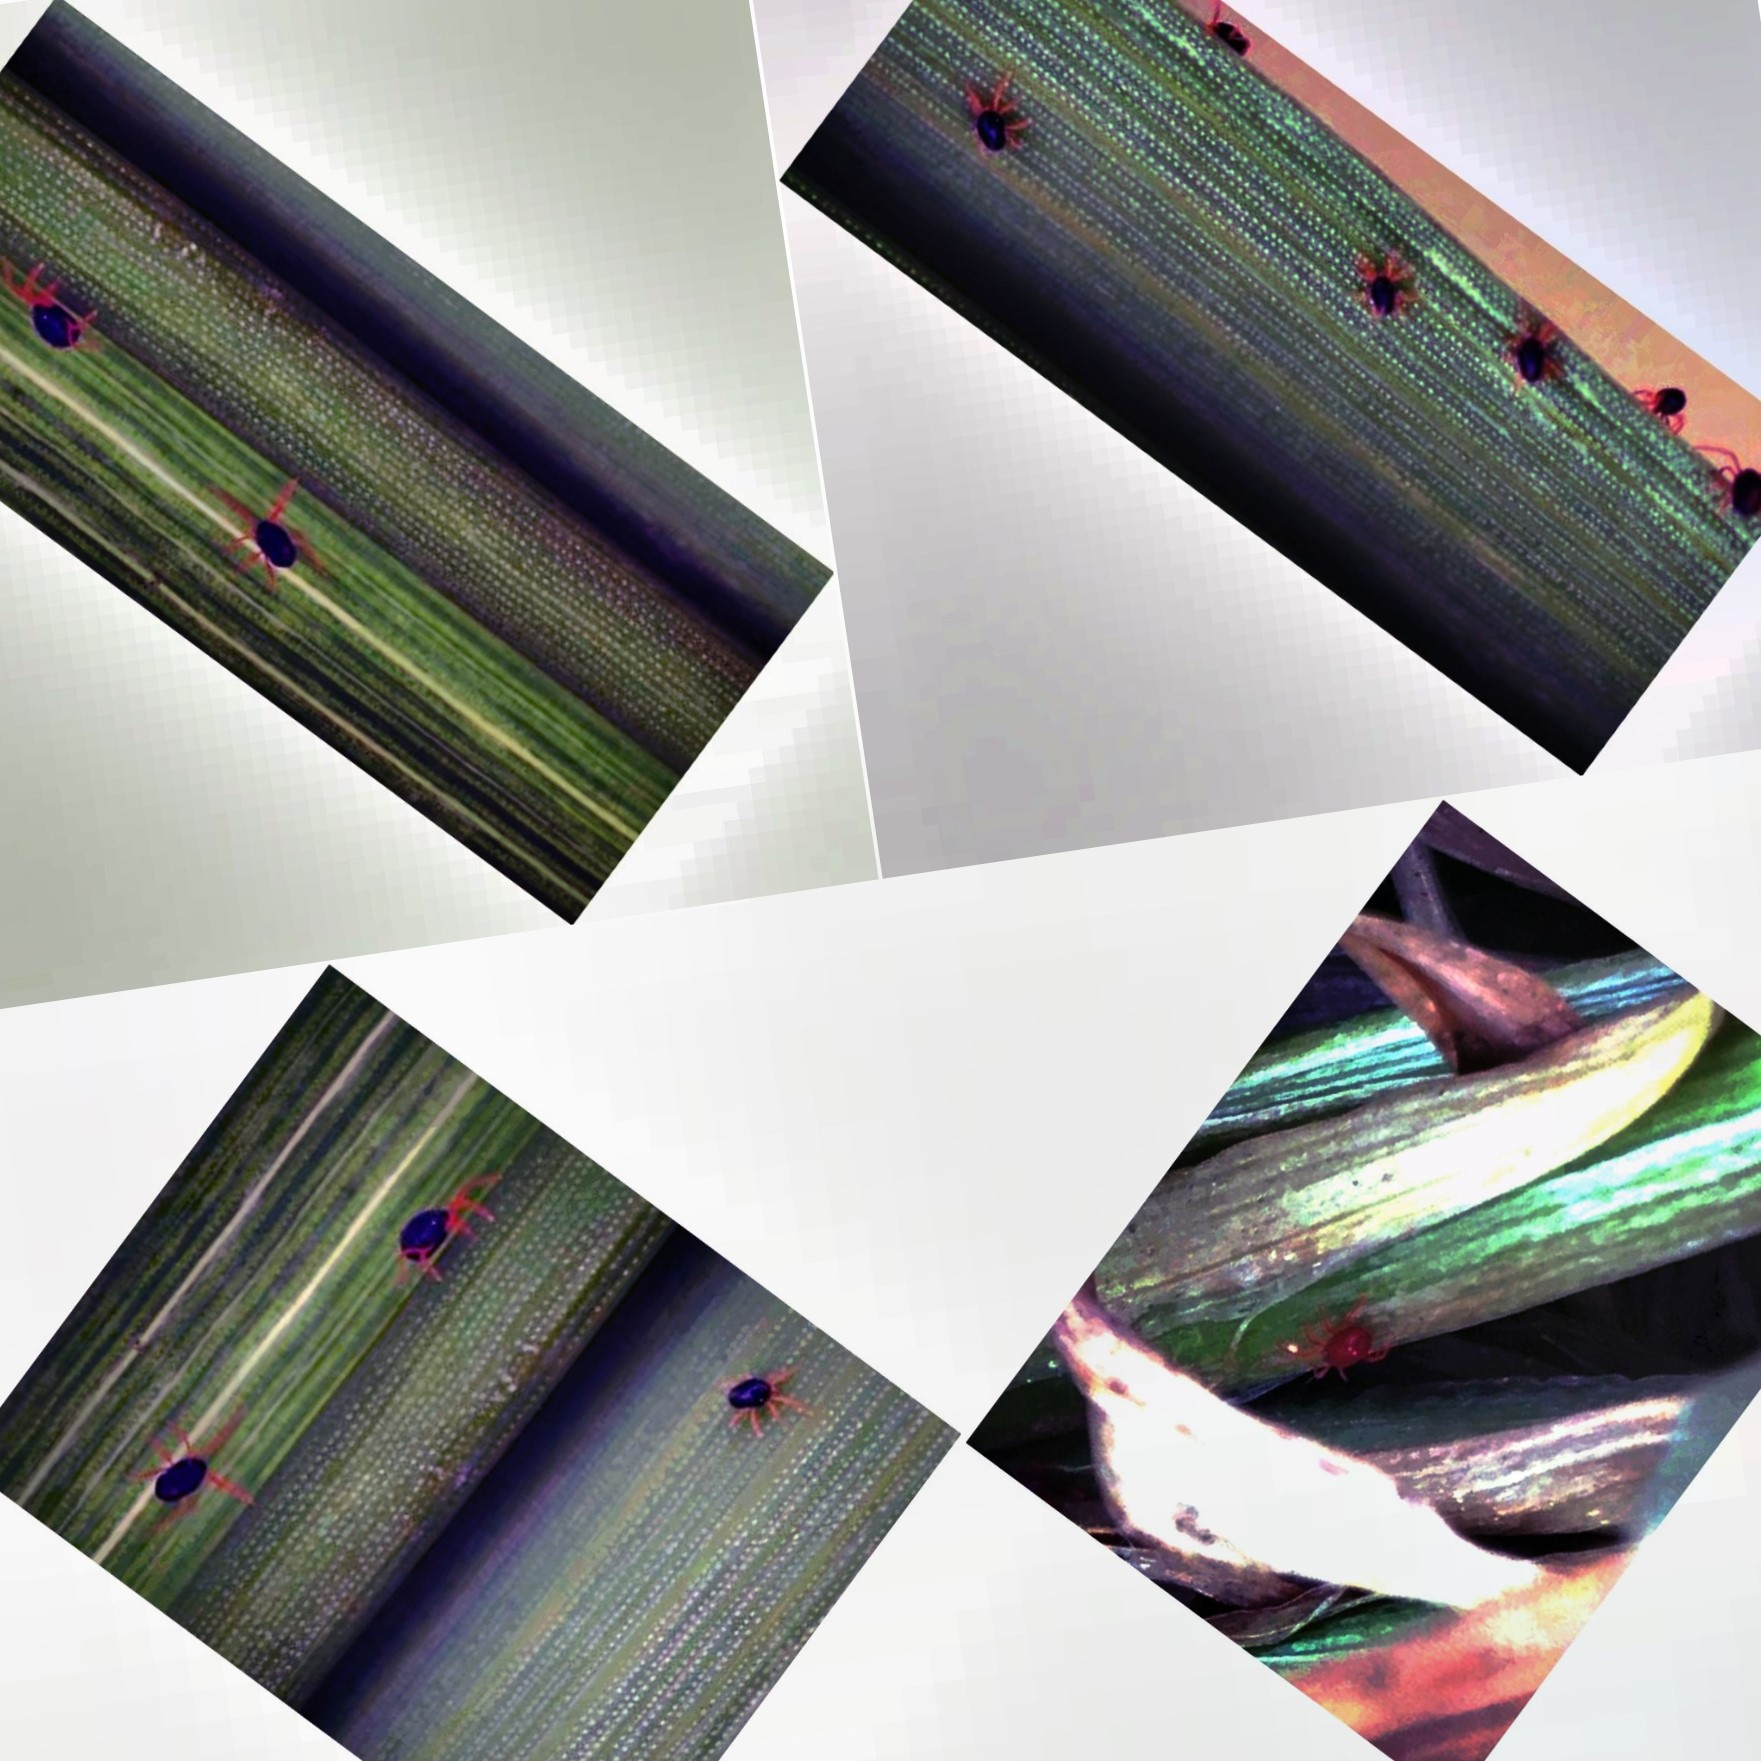Wheat Red Spider: (121, 1393, 306, 1537), (195, 474, 355, 614), (940, 69, 1051, 164), (708, 1353, 818, 1448)
